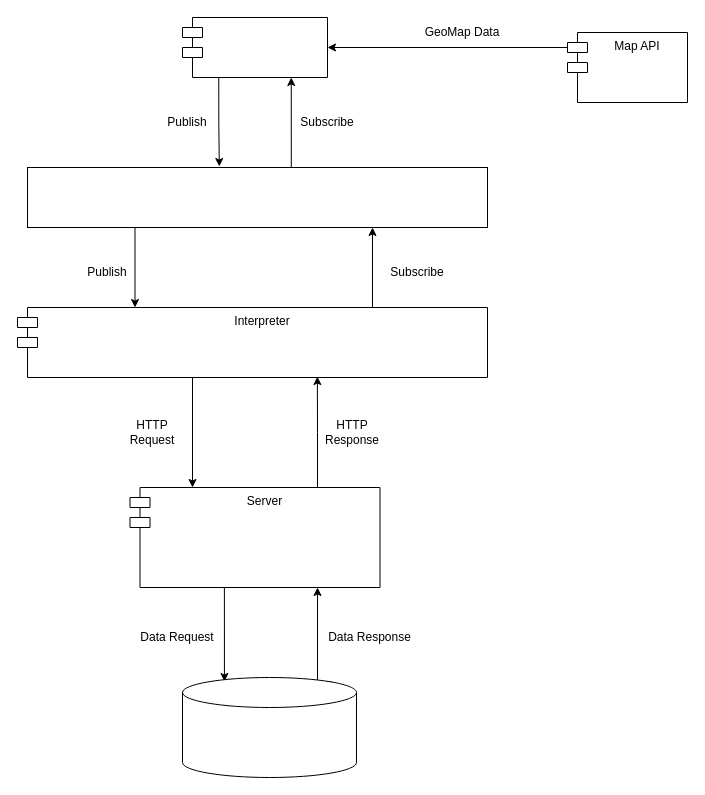
Image size: 705x795. Some labels were removed from this diagram. The centre of each missing label's shape, as x and y in pixels:
MQTT Broker: the point at 257,197
User Interface: the point at 255,47
